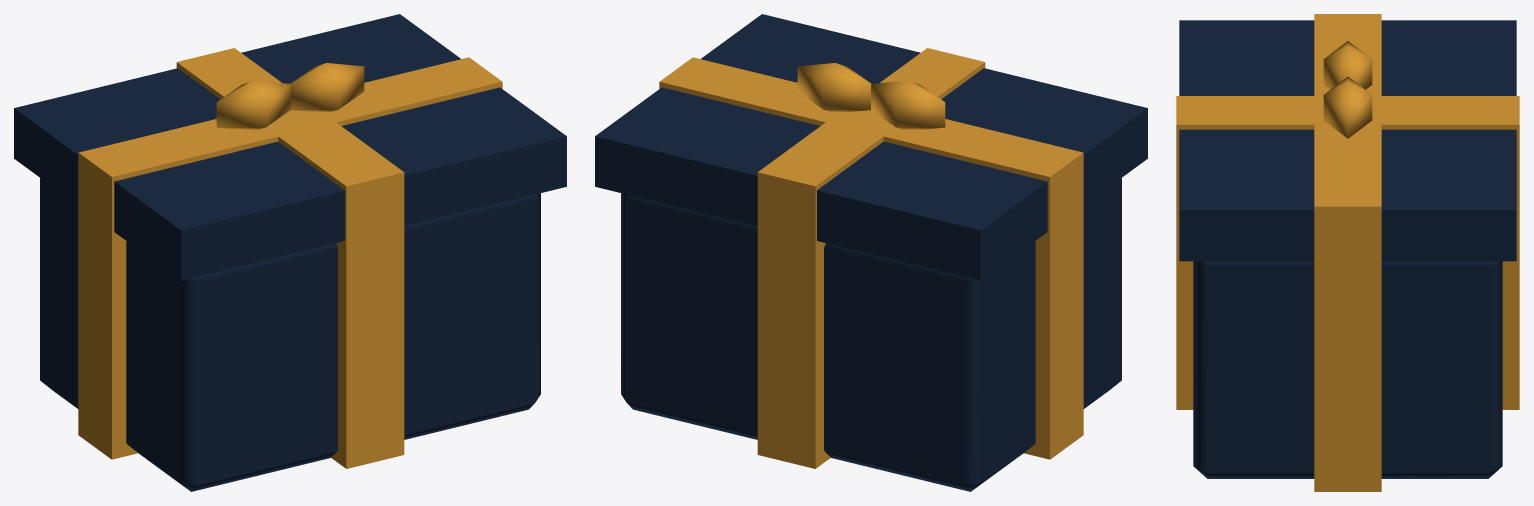
Rendered from CM_Product_PremiumGiftBox.fbx.
3 views of the same model, side by side, from view 1: azimuth 30°, elevation 25°; view 2: azimuth 150°, elevation 25°; view 3: azimuth 270°, elevation 25° (orthographic).
Visible parts, largest first — view 1: PremiumGiftBox; view 2: PremiumGiftBox; view 3: PremiumGiftBox.
Part boxes in pixels (x1=…): PremiumGiftBox: x1=14, y1=14, x2=566, y2=491; PremiumGiftBox: x1=595, y1=14, x2=1147, y2=491; PremiumGiftBox: x1=1176, y1=14, x2=1519, y2=491.
Bounding box in the file's own units: 1.62 × 1.22 × 1.3.
1 material, 1 textured.
